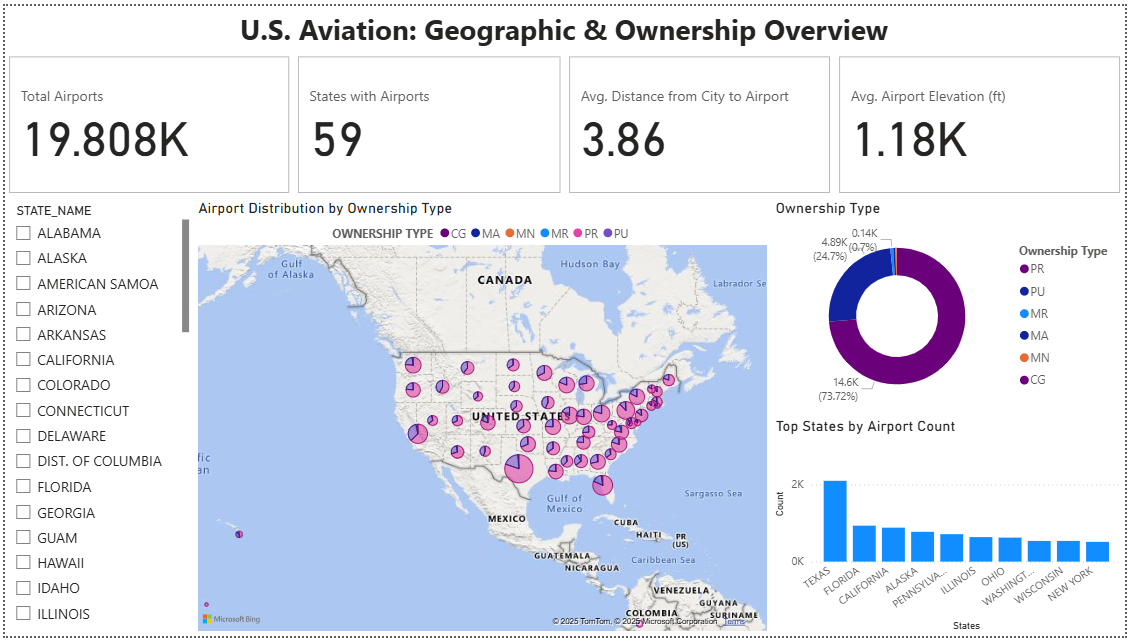

Layout of this report page (visuals, bound fields, positions):
{"tool":"powerbi","page":{"name":"Page 1","canvas":[1280,720],"ordinal":0},"visuals":[{"type":"cardVisual","fields":{"Data":["Count(aviation_facilities_ready.STATE_NAME)"]},"box":[330,53.3,310,166.7],"z":0},{"type":"cardVisual","fields":{"Data":["Avg(aviation_facilities_ready.DIST_CITY_TO_AIRPORT)"]},"box":[640,53.3,308.3,166.7],"z":1000},{"type":"cardVisual","fields":{"Data":["Avg(aviation_facilities_ready.ELEV)"]},"box":[948.3,53.3,331.7,166.7],"z":2000},{"type":"cardVisual","fields":{"Data":["Count(aviation_facilities_ready.ARPT_ID)"]},"box":[0,53.3,330,166.7],"z":3000},{"type":"map","title":"Airport Distribution by Ownership Type","fields":{"Category":["aviation_facilities_ready.STATE_NAME"],"Series":["aviation_facilities_ready.OWNERSHIP_TYPE_CODE"],"Size":["Count(aviation_facilities_ready.ARPT_ID)"]},"box":[215.7,220,660,500],"z":4000},{"type":"donutChart","title":"Ownership Type","fields":{"Category":["aviation_facilities_ready.OWNERSHIP_TYPE_CODE"],"Y":["Count(aviation_facilities_ready.ARPT_ID)"]},"box":[875,220,405,250],"z":5000},{"type":"clusteredColumnChart","title":"Top States by Airport Count","fields":{"Category":["aviation_facilities_ready.STATE_NAME"],"Y":["CountNonNull(aviation_facilities_ready.ARPT_ID)"]},"box":[875,470,405,250],"z":6000},{"type":"slicer","fields":{"Values":["aviation_facilities_ready.STATE_NAME"]},"box":[0,220,215.7,500],"z":7000},{"type":"textbox","box":[231.7,0,815,53.3],"z":8000}]}

Visuals, with their boxes in screenshot pixels (x1, y1, x2, y2), scaled from the page's 1280x720 canvas onto the 1128x642 screenshot:
cardVisual - Count(aviation_facilities_ready.STATE_NAME): region(291, 48, 564, 196)
cardVisual - Avg(aviation_facilities_ready.DIST_CITY_TO_AIRPORT): region(564, 48, 836, 196)
cardVisual - Avg(aviation_facilities_ready.ELEV): region(836, 48, 1127, 196)
cardVisual - Count(aviation_facilities_ready.ARPT_ID): region(0, 48, 291, 196)
"Airport Distribution by Ownership Type" map: region(190, 196, 772, 641)
"Ownership Type" donutChart: region(771, 196, 1127, 419)
"Top States by Airport Count" clusteredColumnChart: region(771, 419, 1127, 641)
slicer - aviation_facilities_ready.STATE_NAME: region(0, 196, 190, 641)
textbox: region(204, 0, 922, 48)
